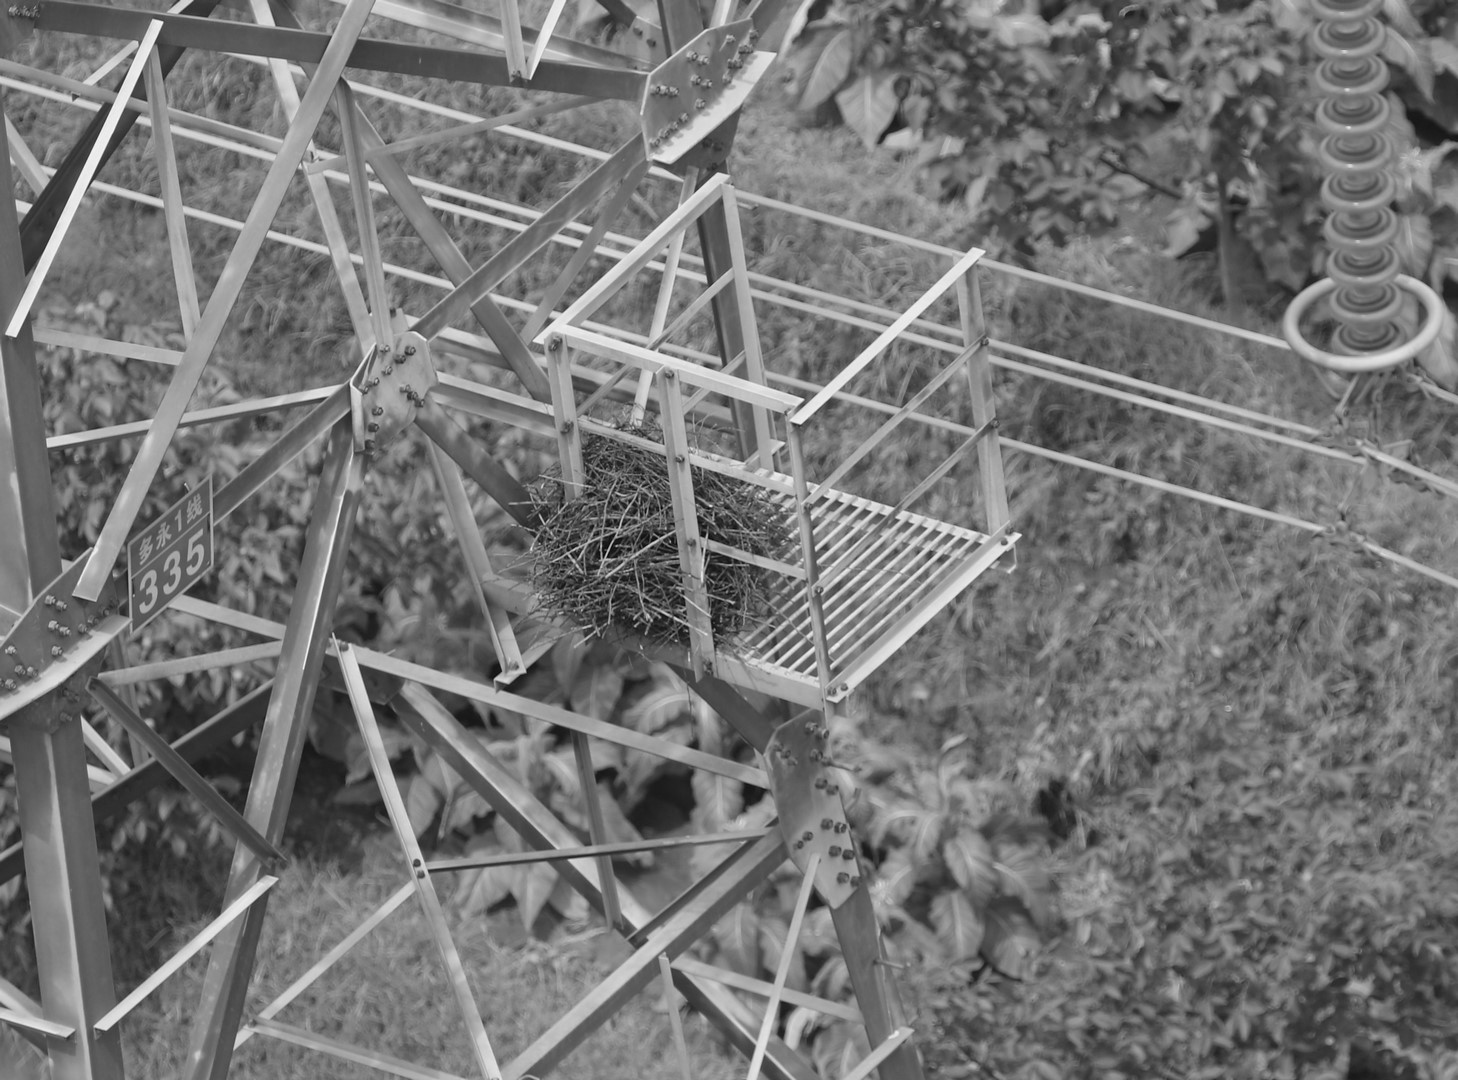niaowo: (509, 412, 800, 674)
